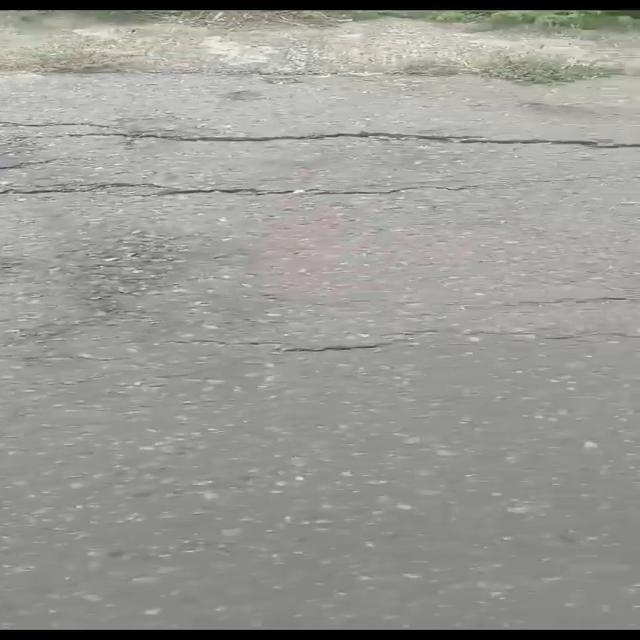Melintang: (0, 111, 640, 161), (0, 174, 458, 210)
